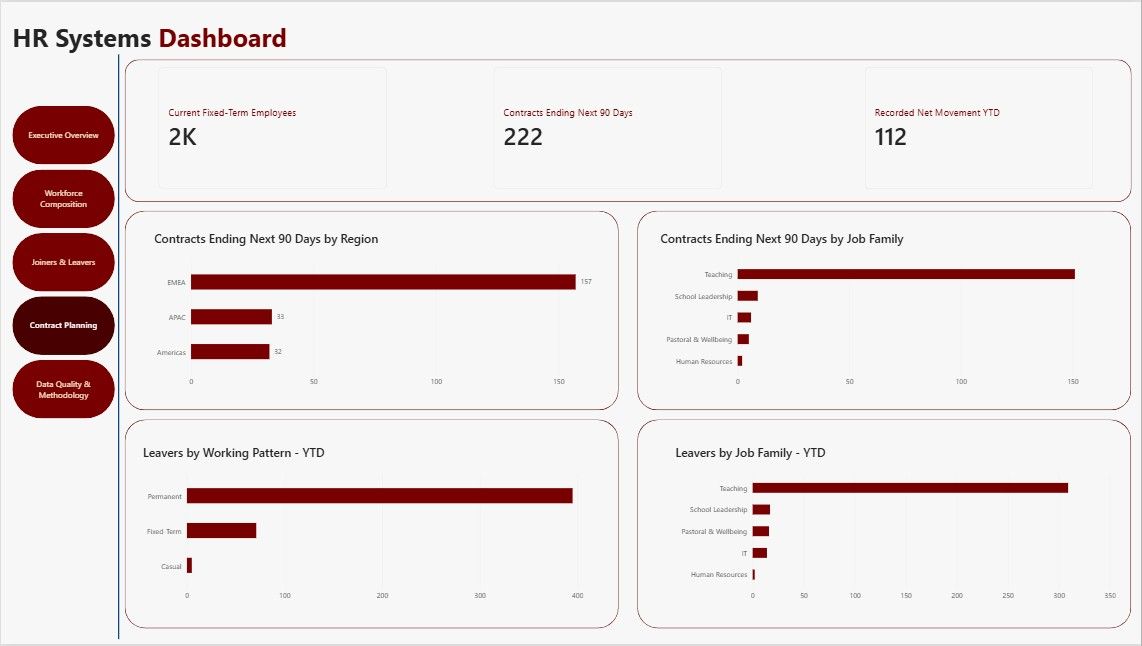

The dashboard page shown, as its layout file describes it:
{"tool":"powerbi","page":{"name":"Contract Planning","canvas":[1920,1080],"ordinal":3},"visuals":[{"type":"shape","box":[208,704,832,352],"z":0},{"type":"shape","box":[1072,704,832,352],"z":1000},{"type":"shape","box":[1072,352,832,336],"z":2000},{"type":"shape","box":[208,352,832,336],"z":3000},{"type":"shape","box":[208,96,1696,240],"z":4000},{"type":"textbox","box":[19,29.2,557.3,80.2],"z":5000},{"type":"shape","box":[192,88,13.1,984.8],"z":6000},{"type":"pageNavigator","box":[18.8,174,174,529.8],"z":7000},{"type":"cardVisual","fields":{"Data":["Employees_Reporting.Current Fixed-Term Employees"]},"box":[265.4,109.7,385.5,206.1],"z":8000},{"type":"cardVisual","fields":{"Data":["Employees_Reporting.Contracts Ending Next 90 Days"]},"box":[828.8,109.7,385.5,206.1],"z":9000},{"type":"cardVisual","fields":{"Data":["Employees_Reporting.Recorded Net Movement YTD"]},"box":[1455.9,109.7,385.5,206.1],"z":10000},{"type":"barChart","fields":{"Category":["Employees_Reporting.Region"],"Y":["Employees_Reporting.Contracts Ending Next 90 Days"]},"box":[241.7,370.7,779.9,298],"z":11000},{"type":"barChart","fields":{"Category":["Employees_Reporting.Job Family"],"Y":["Employees_Reporting.Contracts Ending Next 90 Days"]},"box":[1095.7,370.7,773.9,298],"z":12000},{"type":"barChart","title":"Leavers  by Working Pattern - YTD","fields":{"Category":["Employees_Reporting.Working_Pattern"],"Y":["Employees_Reporting.Leavers YTD"]},"box":[222.4,730.9,773.9,298],"z":13000},{"type":"barChart","title":"Leavers by Job Family - YTD","fields":{"Category":["Employees_Reporting.Job Family"],"Y":["Employees_Reporting.Leavers YTD"]},"box":[1119.4,730.9,773.9,298],"z":14000}]}

Visuals, with their boxes in screenshot pixels (x1, y1, x2, y2), scaled from the page's 1920x1080 canvas onto the 1142x646 screenshot:
shape: 124 421 619 632
shape: 638 421 1132 632
shape: 638 211 1132 412
shape: 124 211 619 412
shape: 124 57 1132 201
textbox: 11 17 343 65
shape: 114 53 122 642
pageNavigator: 11 104 115 421
cardVisual - Employees_Reporting.Current Fixed-Term Employees: 158 66 387 189
cardVisual - Employees_Reporting.Contracts Ending Next 90 Days: 493 66 722 189
cardVisual - Employees_Reporting.Recorded Net Movement YTD: 866 66 1095 189
barChart - Employees_Reporting.Region x Employees_Reporting.Contracts Ending Next 90 Days: 144 222 608 400
barChart - Employees_Reporting.Job Family x Employees_Reporting.Contracts Ending Next 90 Days: 652 222 1112 400
"Leavers  by Working Pattern - YTD" barChart: 132 437 593 615
"Leavers by Job Family - YTD" barChart: 666 437 1126 615
